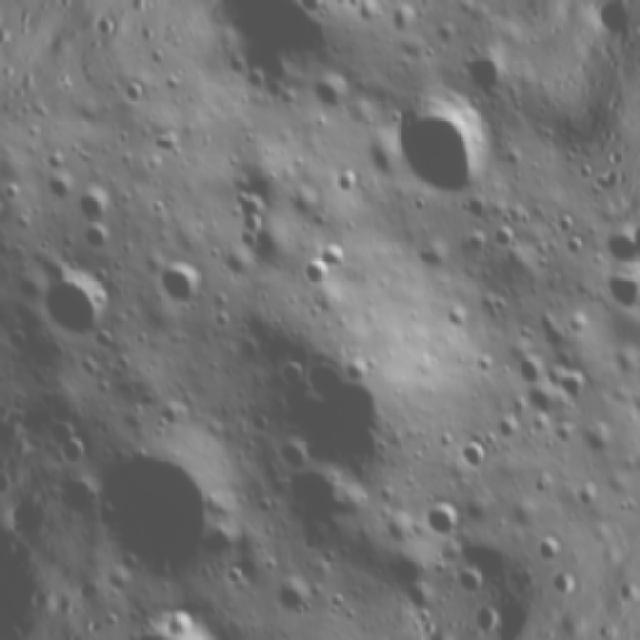crater: (68, 411, 264, 604), (244, 297, 430, 497), (367, 69, 508, 217), (12, 236, 137, 355), (258, 448, 376, 566), (138, 238, 231, 330), (109, 589, 251, 640), (443, 31, 522, 111), (298, 57, 365, 123), (415, 485, 477, 550), (587, 255, 640, 327), (546, 356, 603, 415), (312, 228, 372, 284), (290, 247, 345, 304), (518, 520, 574, 571), (508, 344, 562, 396), (451, 428, 503, 480), (71, 178, 120, 231), (576, 420, 622, 466), (37, 169, 81, 213), (567, 475, 610, 517), (292, 0, 337, 20), (0, 184, 14, 236), (638, 436, 640, 516)
